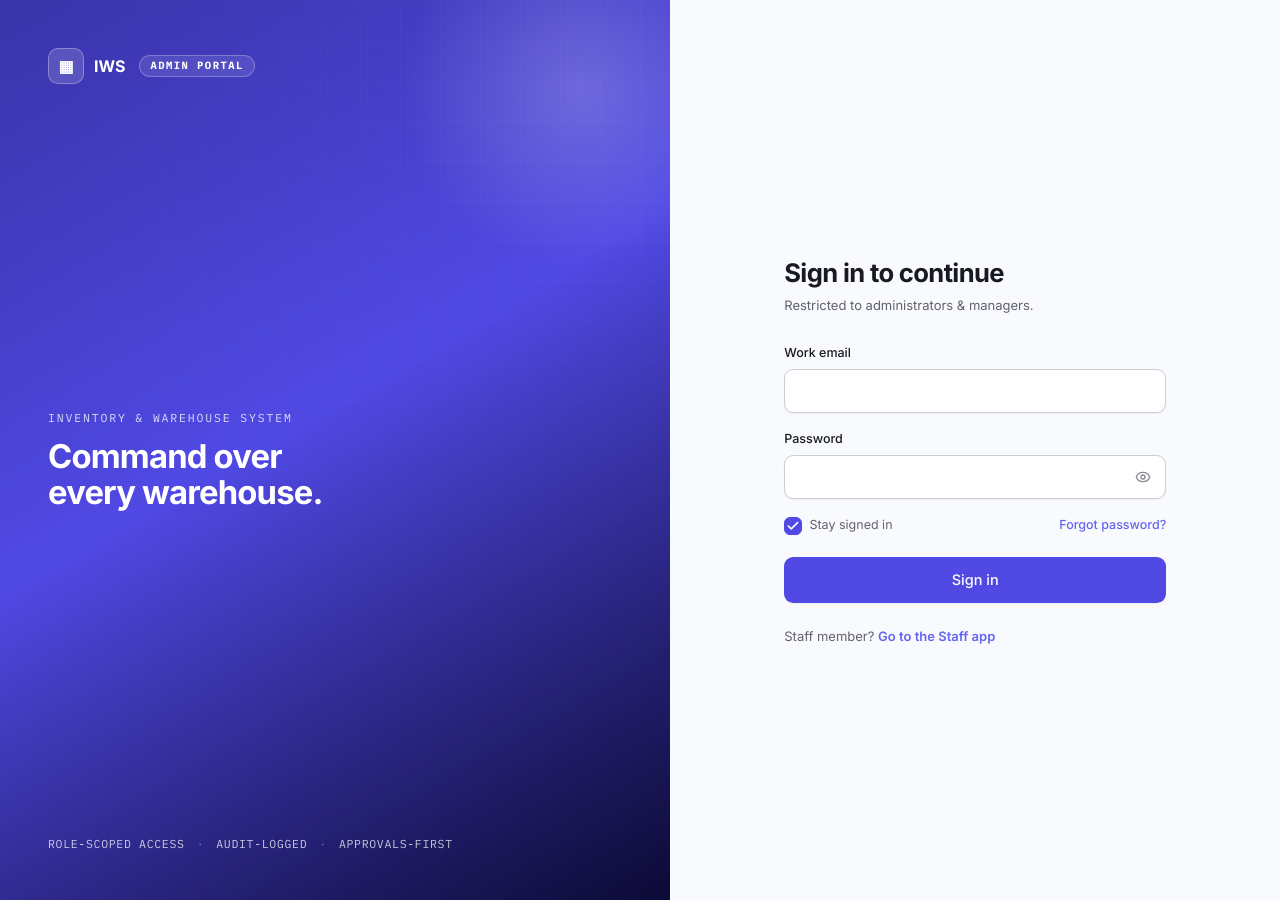
Test: AdminLoginPage › shows the API message on a 401
In the field labelled "Work email": (975,391) [784,369,1166,413], type "admin@iws.local"
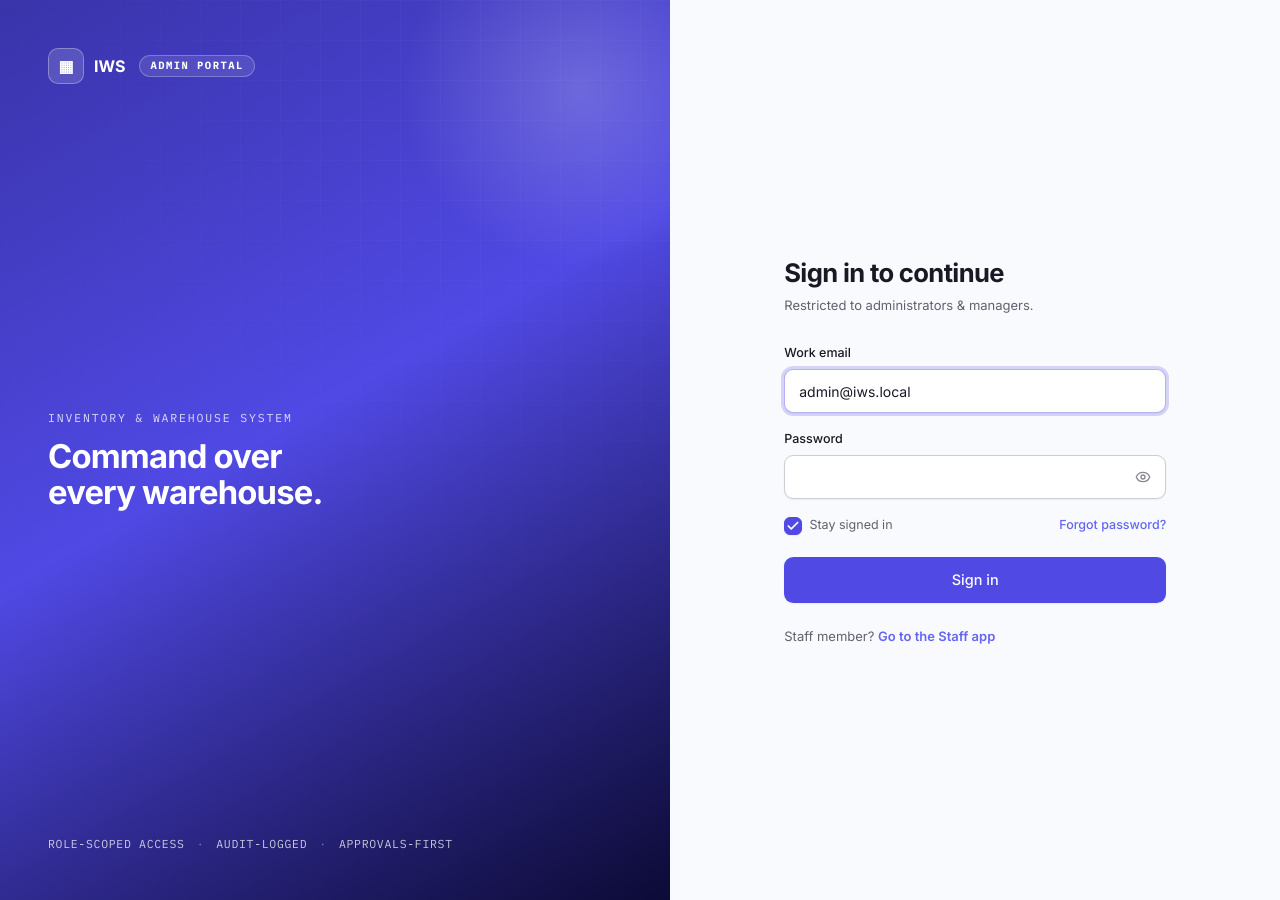
In the password field labelled "Password": (975,478) [784,456,1166,500], type "nope"
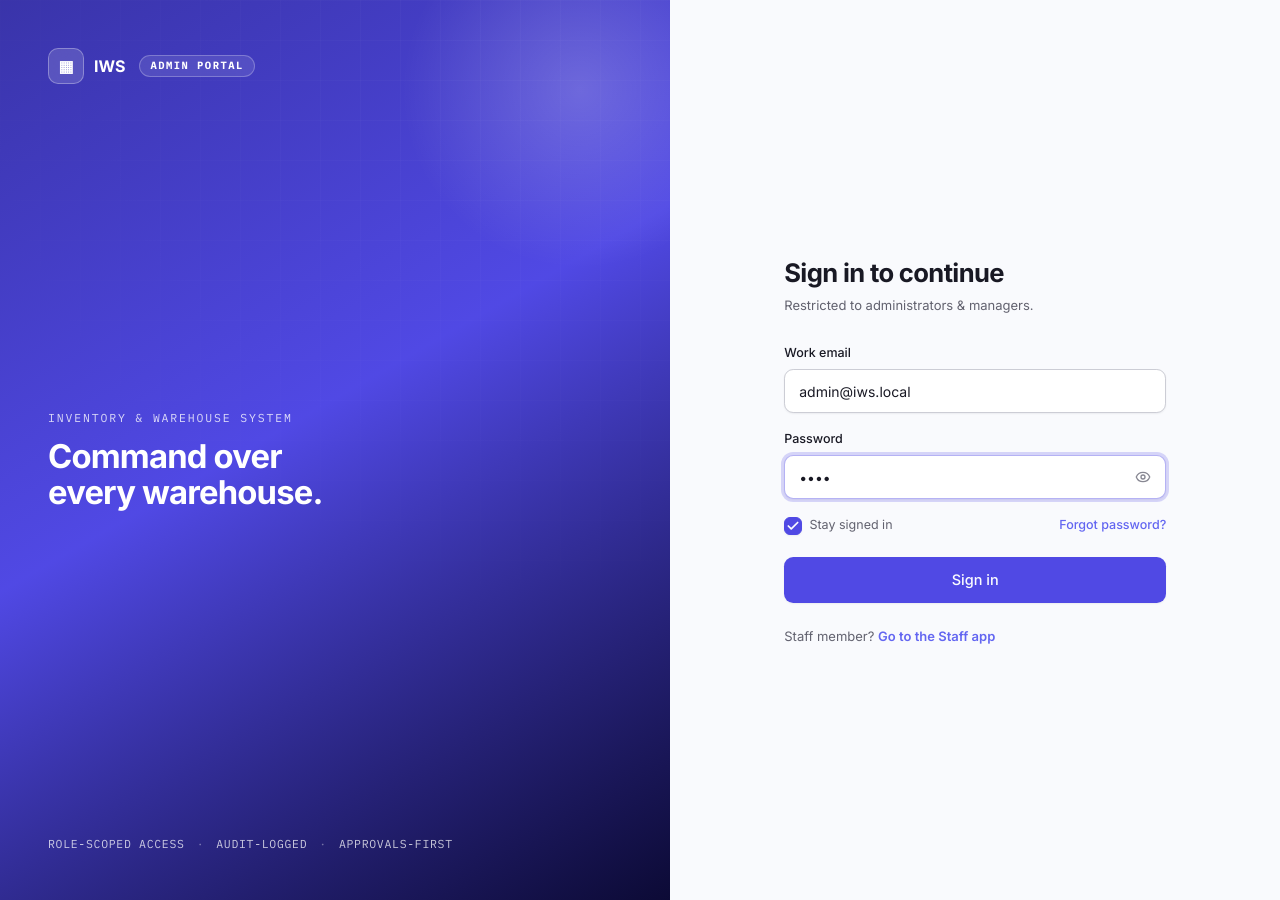
Click the button "Sign in": (975,580) [784,557,1166,603]
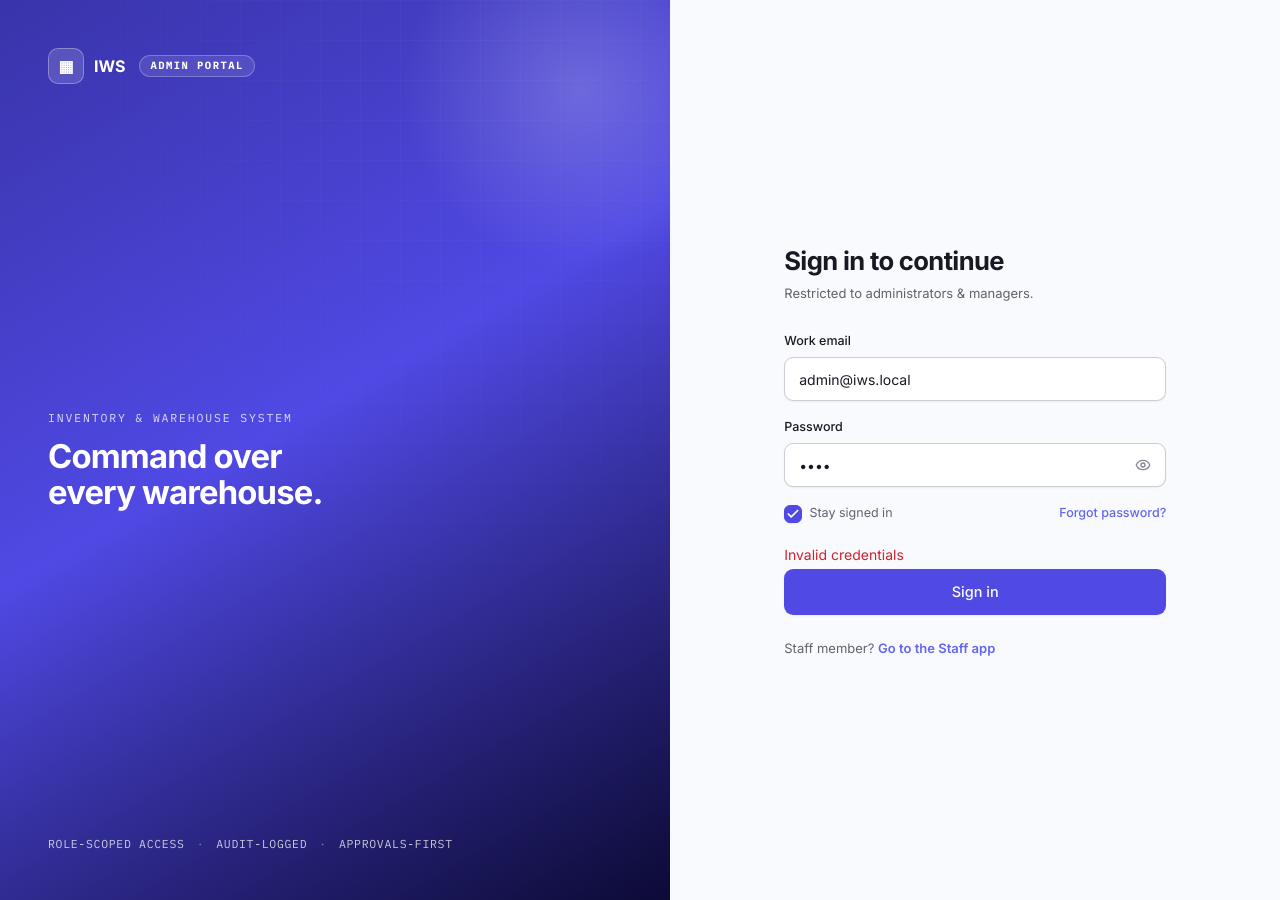
Expected: the message reads "Invalid credentials", [784,546,904,563]
